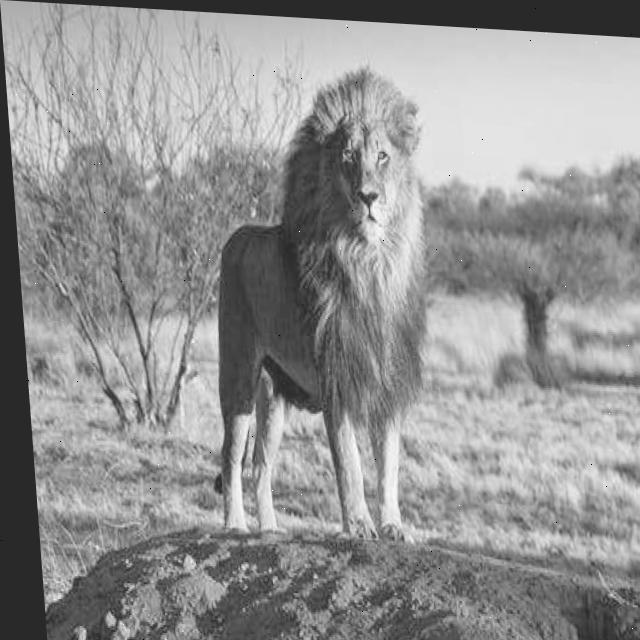Lion: (225, 35, 485, 558)
